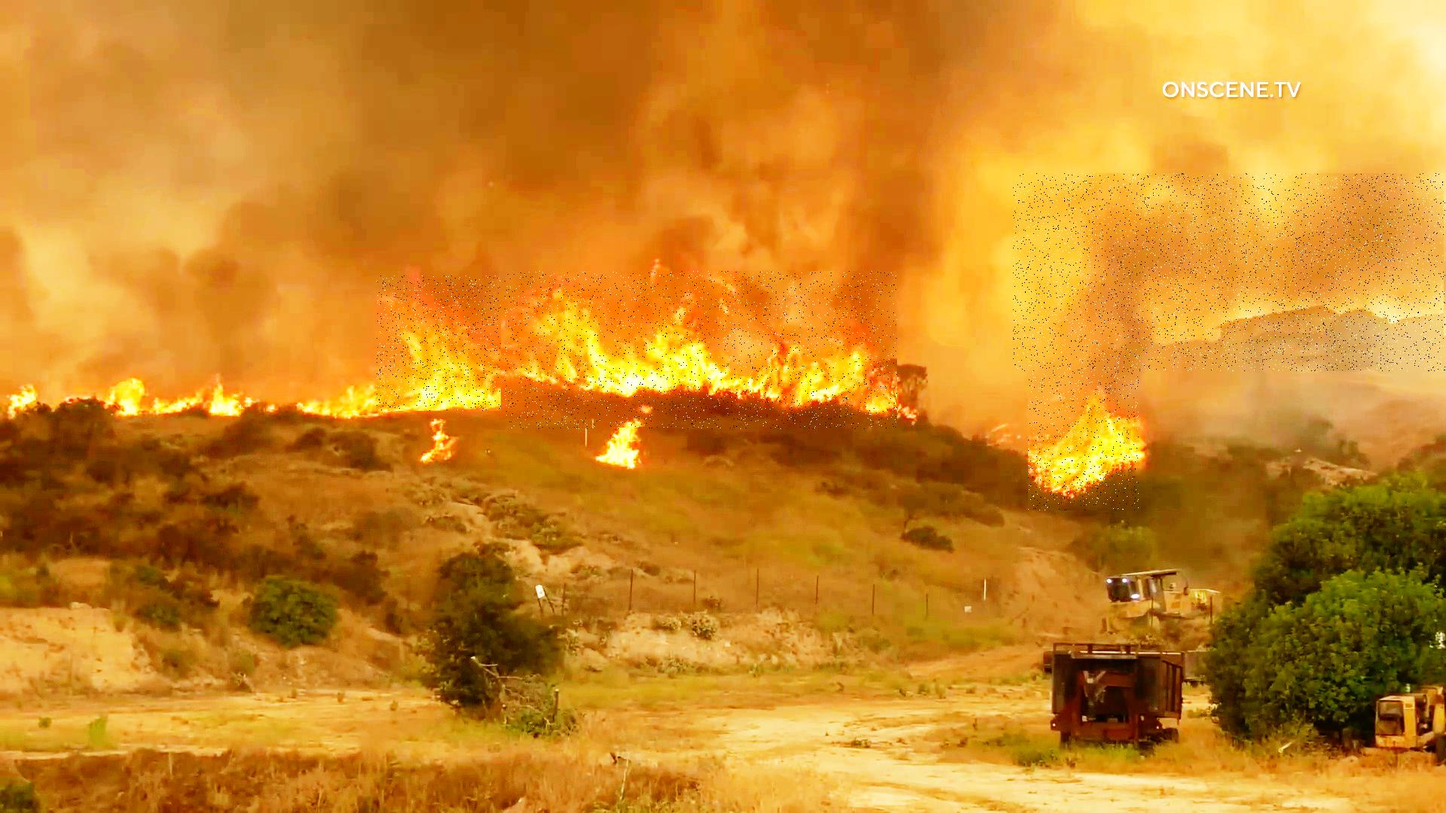fire: (505, 271, 897, 429), (1028, 352, 1139, 511), (377, 275, 501, 411)
smoke: (1013, 173, 1446, 371)
